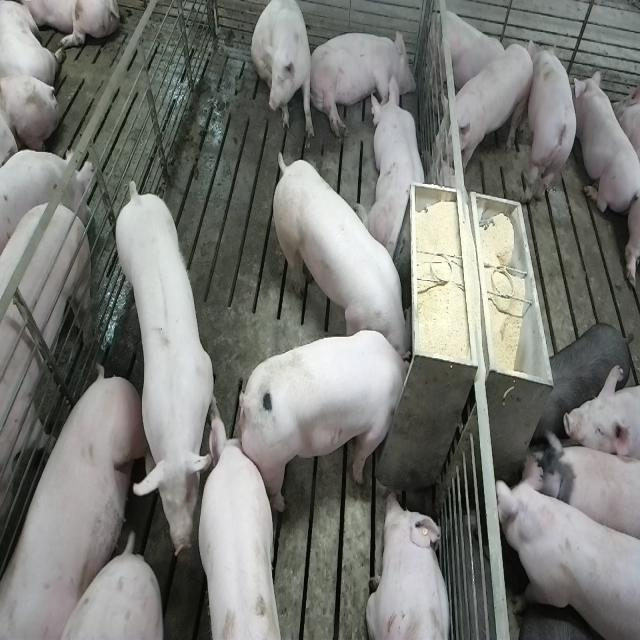Feeding: (244, 329, 419, 514), (268, 144, 410, 360)
Lateral_lying: (308, 27, 417, 139)
Sitting: (252, 1, 314, 140)
Standing: (0, 195, 93, 640), (112, 184, 219, 509), (496, 458, 638, 640), (197, 413, 287, 638), (531, 320, 636, 448), (529, 429, 637, 551), (439, 45, 535, 173)
Sternal_lying: (360, 75, 432, 258), (366, 490, 453, 640), (573, 67, 637, 215), (427, 4, 510, 98)
